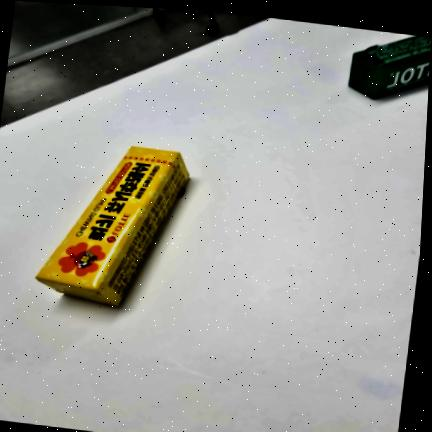gum_yellow: (36, 146, 188, 306)
